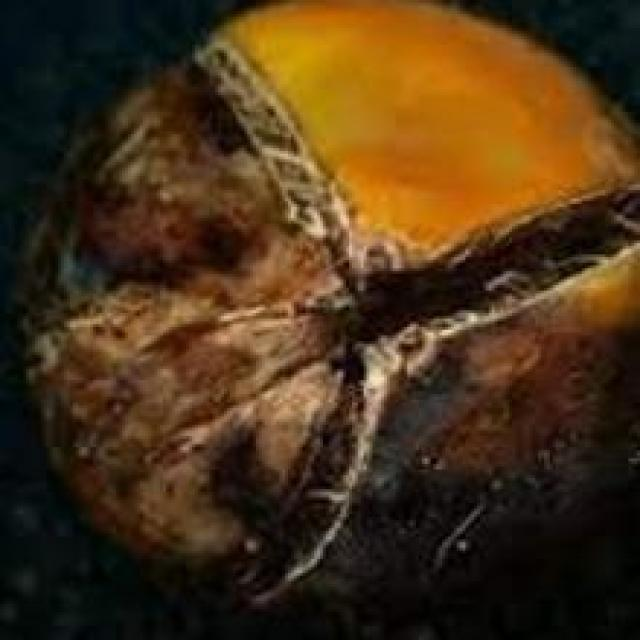damaged: (17, 0, 637, 618)
